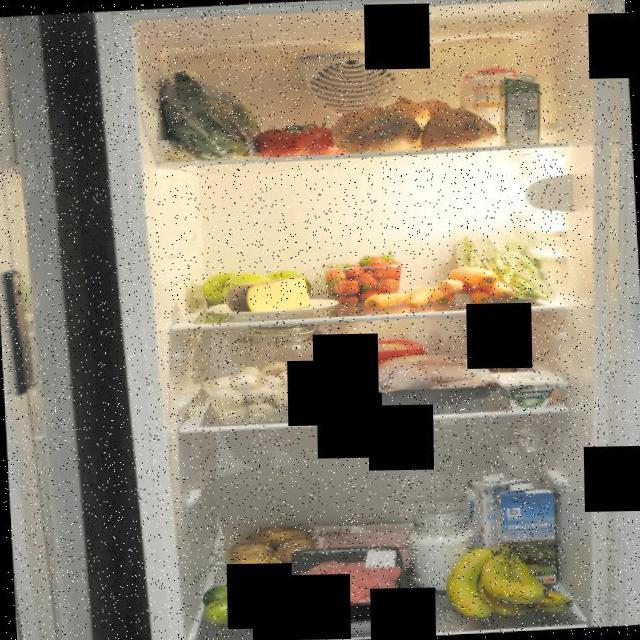Carne cerdo: (320, 522, 412, 566)
Carne pollo: (338, 350, 500, 416)
Carne vacuno: (295, 543, 405, 636)
Cebolla: (380, 94, 454, 126)
Champiñones: (198, 358, 346, 425)
Leche: (490, 478, 564, 592), (460, 471, 526, 569)
Mantequilla: (325, 337, 426, 383)
Manzana: (202, 264, 314, 308)
Patata: (224, 517, 313, 577)
Plátano: (446, 536, 574, 620)
Queso: (222, 272, 313, 316), (493, 367, 568, 410)
Tomate: (250, 120, 348, 160)
Zanahoria: (436, 264, 517, 310), (358, 284, 441, 312)
corn: (471, 349, 521, 375)
flour: (233, 324, 325, 370)
green_beans: (451, 206, 556, 306)
heavy_cream: (498, 72, 544, 146)
spinach: (148, 46, 266, 166)
strawberries: (319, 251, 407, 302)
sugar: (404, 503, 479, 593), (453, 62, 518, 146)
sweet_potato: (329, 100, 498, 154)
